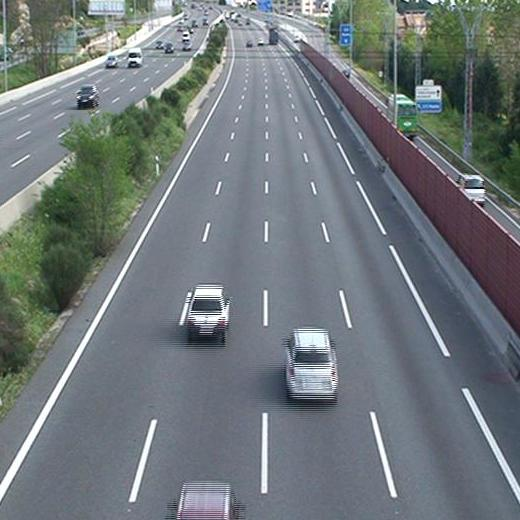car: (284, 327, 339, 401), (184, 284, 230, 340)
